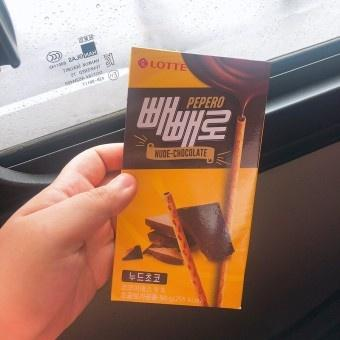snack: (109, 45, 273, 311)
